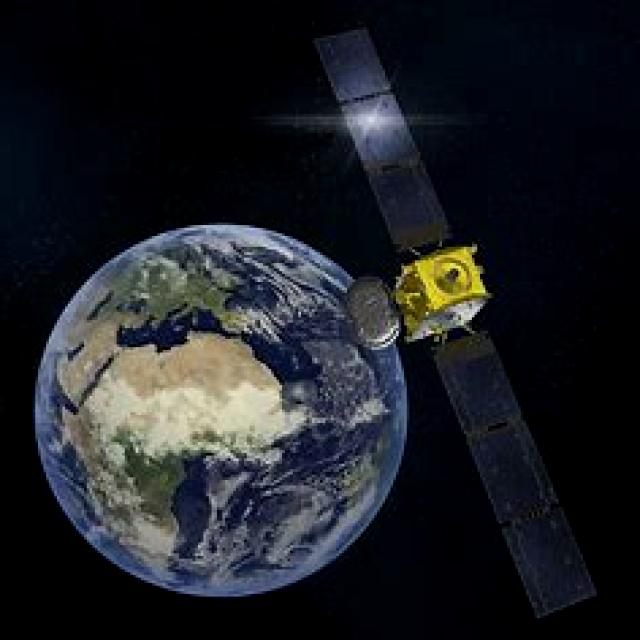satellite: (294, 11, 613, 640)
